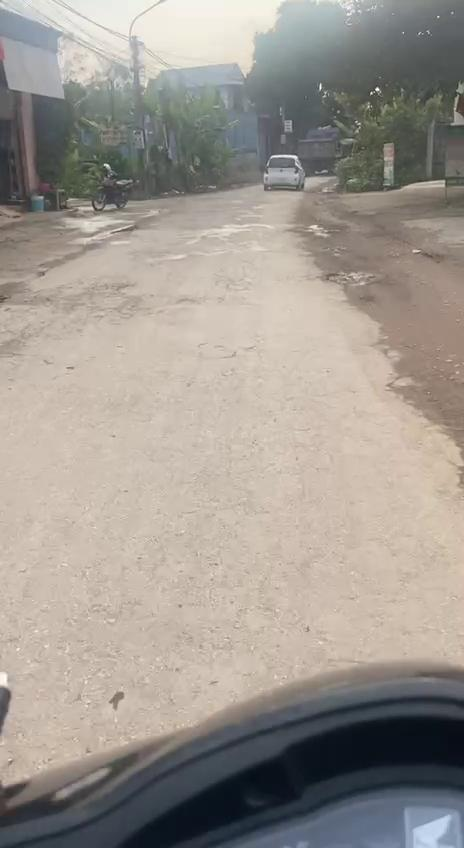pothole: (375, 334, 464, 452), (318, 268, 380, 289), (308, 224, 333, 240), (108, 223, 140, 235)
